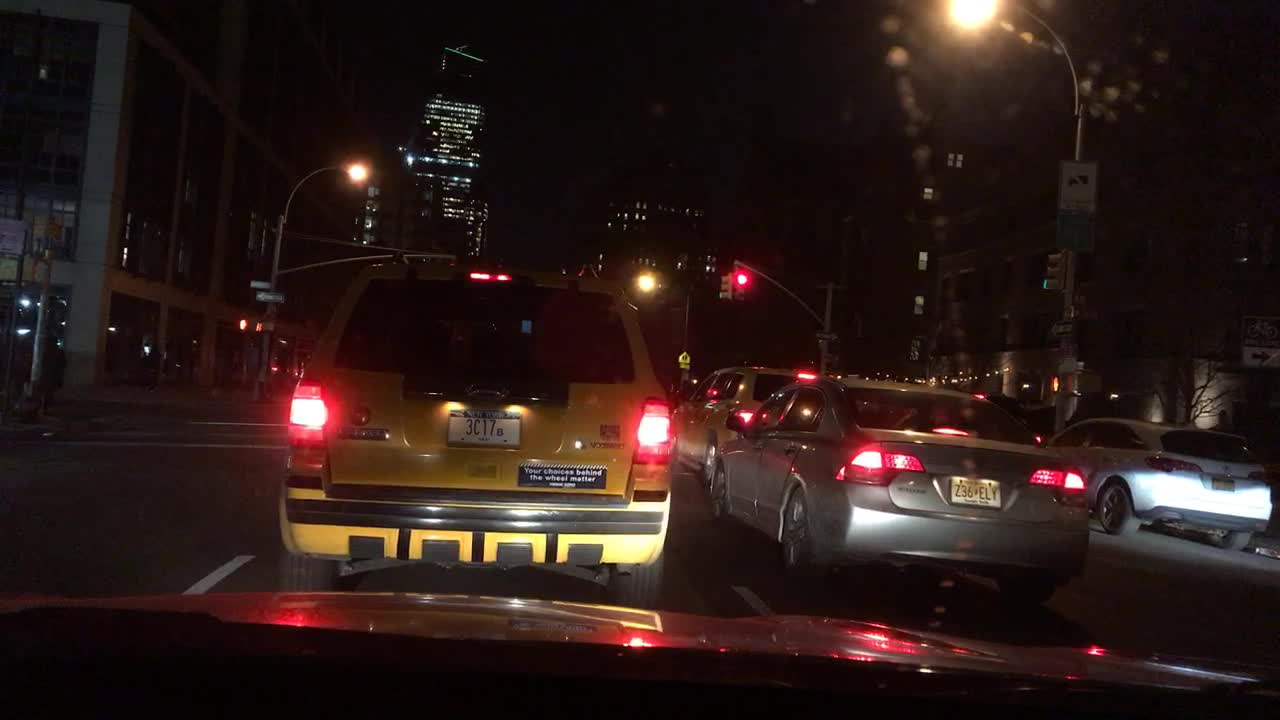car: (275, 259, 676, 603), (702, 370, 1095, 583), (1044, 393, 1274, 551), (656, 360, 821, 488)
traffic light: (1040, 249, 1066, 293), (717, 269, 735, 301), (733, 267, 748, 300), (235, 316, 250, 332)
traffic sign: (1059, 161, 1096, 217), (254, 287, 286, 302), (1048, 320, 1075, 335), (1055, 337, 1075, 356), (815, 330, 839, 342), (248, 278, 272, 290), (677, 349, 690, 368)
